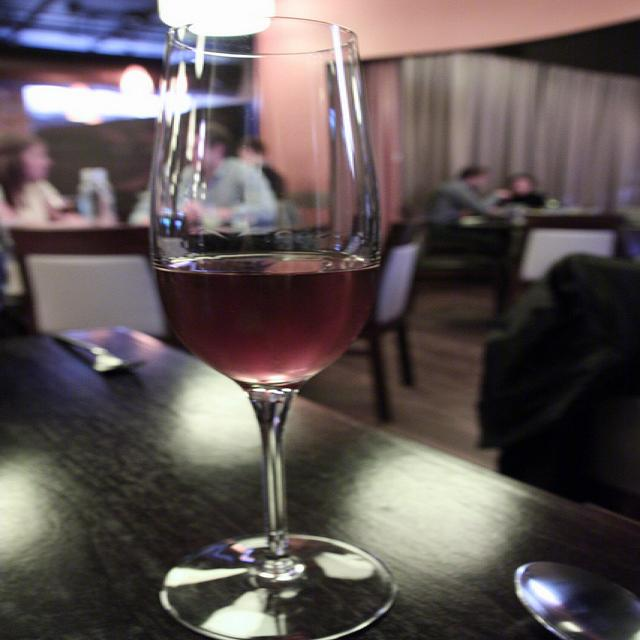chair: (364, 219, 431, 426), (24, 256, 169, 335), (502, 220, 625, 301), (183, 223, 329, 256)
dining table: (0, 322, 640, 640), (16, 168, 152, 336), (519, 206, 640, 229)
